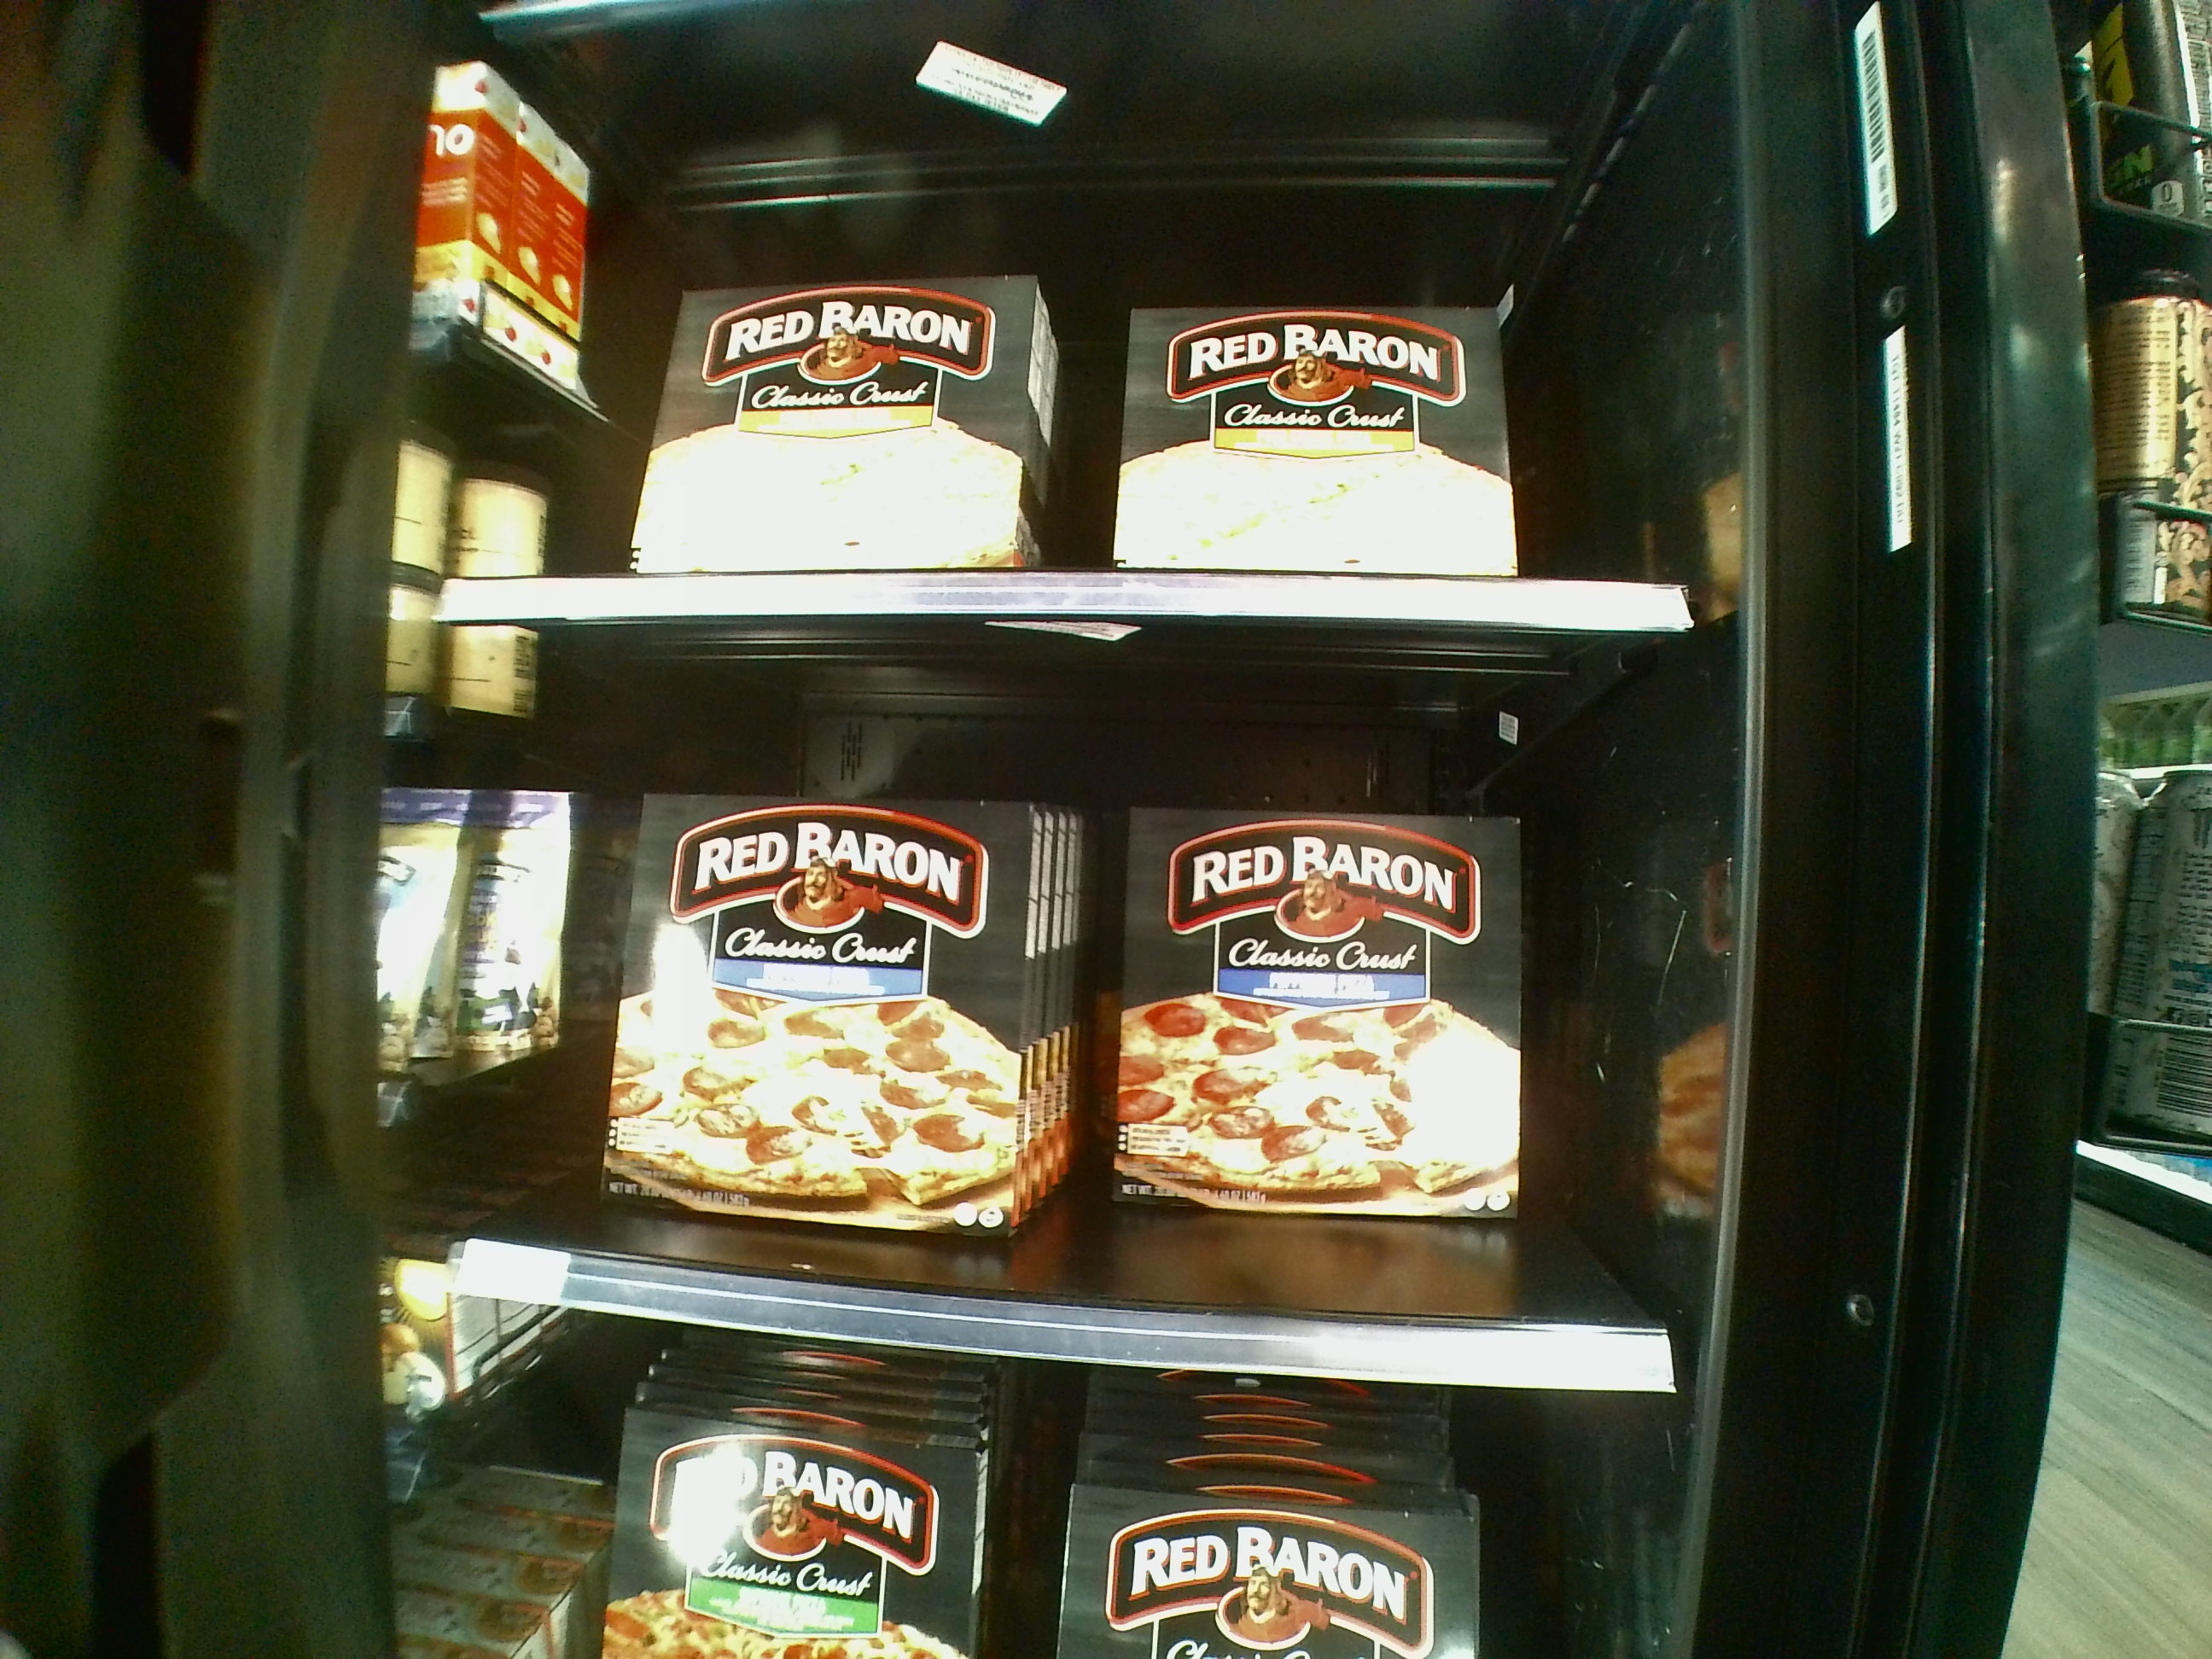shelf: (477, 643, 1698, 1385), (470, 30, 1717, 634)
